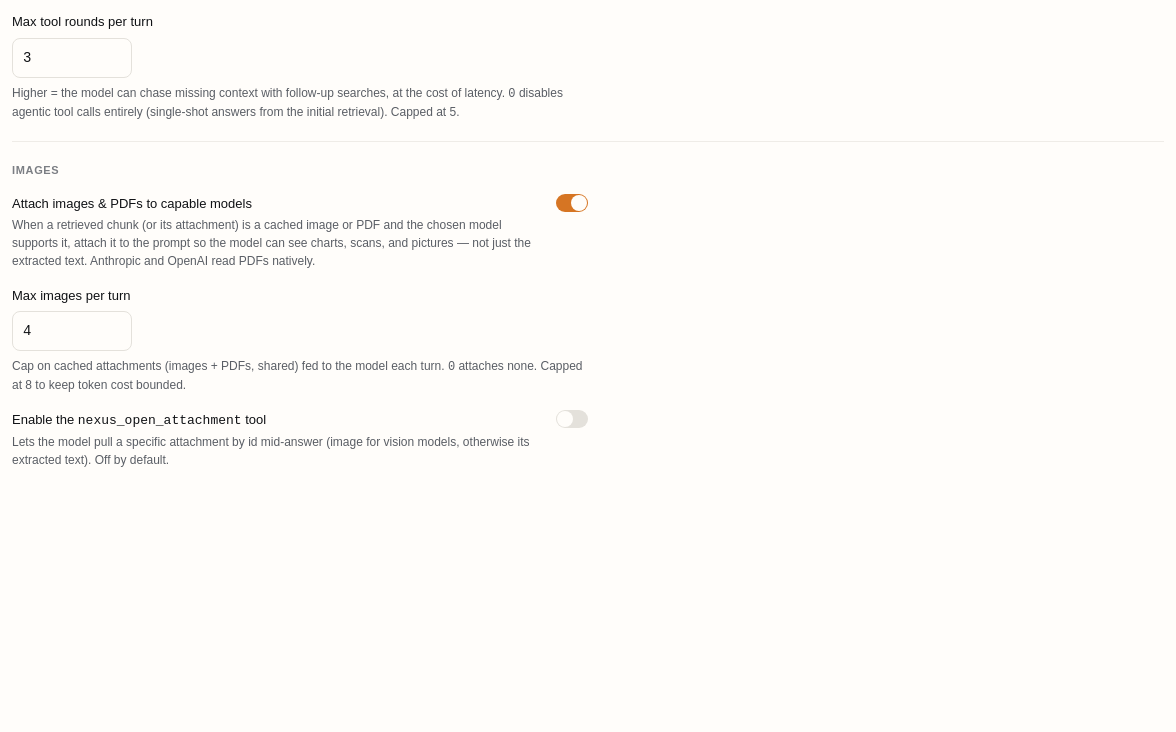
Test case: RAGForm › flips into dirty state when the value changes and reverts on Revert
The image size is (1176, 732).
Replace the text in the number field named "Max tool rounds per turn" with "1" at (72, 58), box [12,38,132,78]
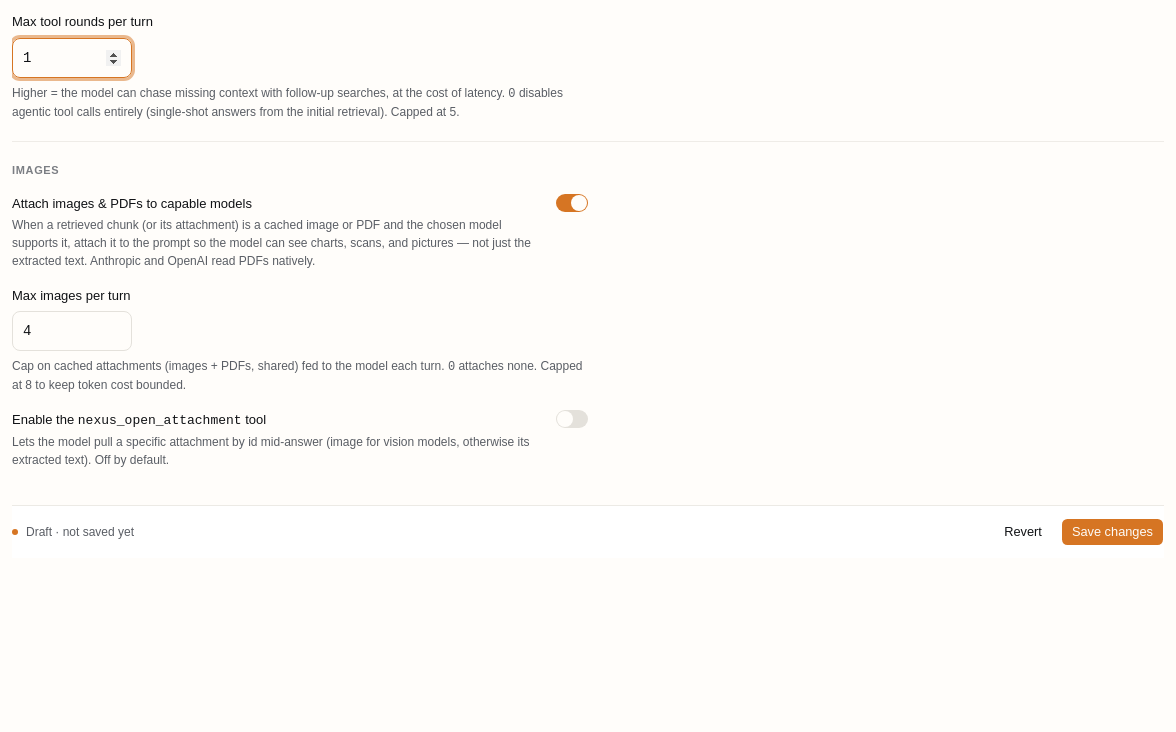
Now the text "Draft · not saved yet" is shown, box [26,522,134,540]
Click the button "Revert".
click(1023, 532)  # box [993,518,1053,546]
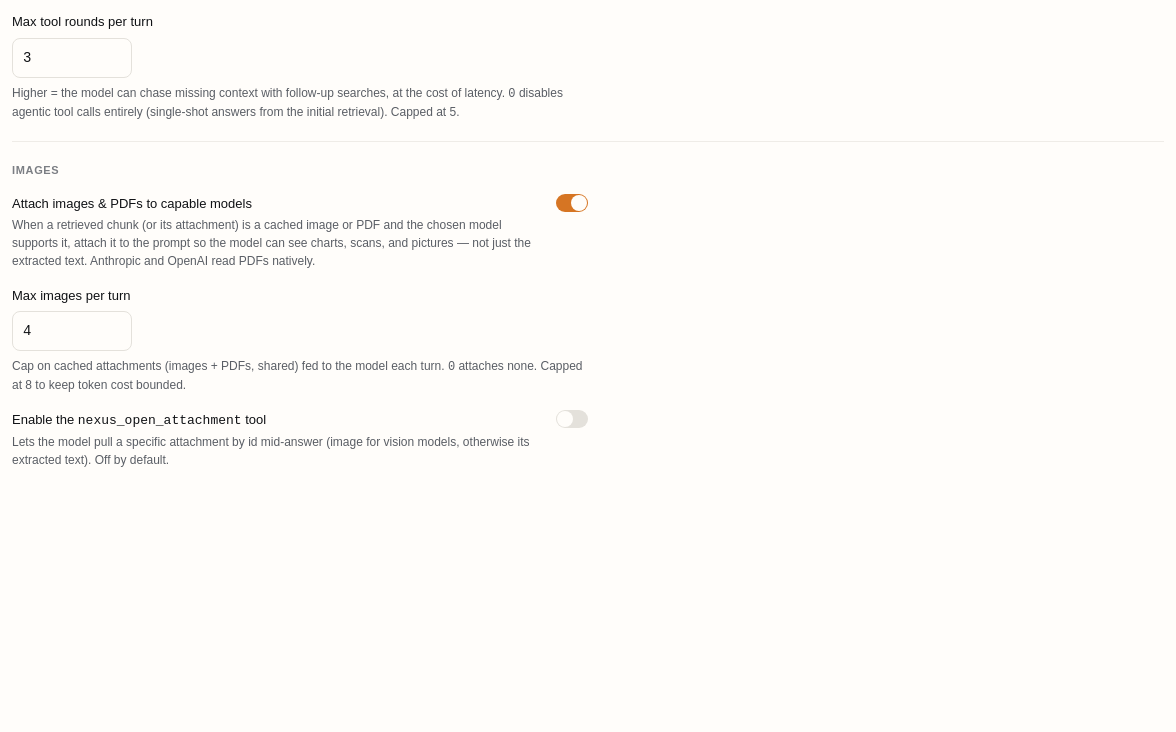
Now the number field named "Max tool rounds per turn" holds "3", box [12,38,132,78]
Now the text "Draft · not saved yet" is gone
